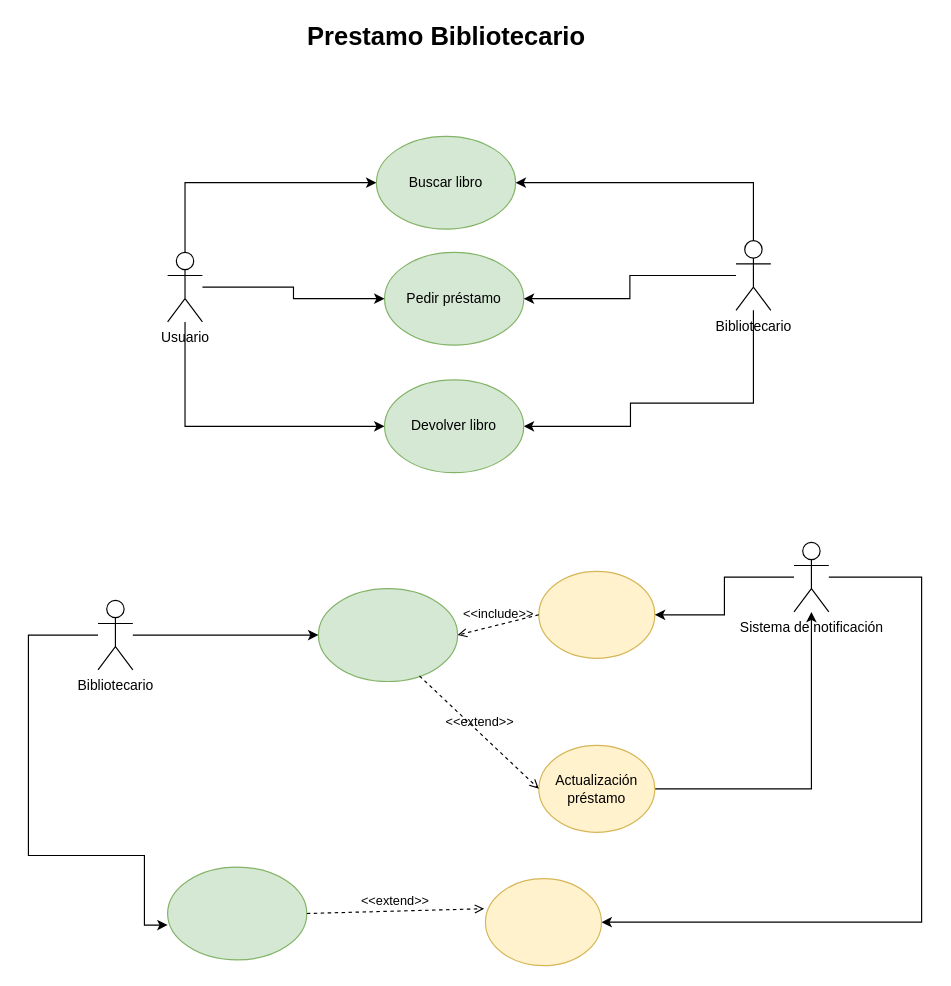
This 951x986 diagram has some shape labels left out. Here are the shapes that lost their labels. From the top down, the centre of each, then its label:
(x=596, y=614): Enviar notificación
(x=387, y=635): Registrar préstamo
(x=236, y=913): Gestionar inventario
(x=542, y=922): Actualización de inventario
